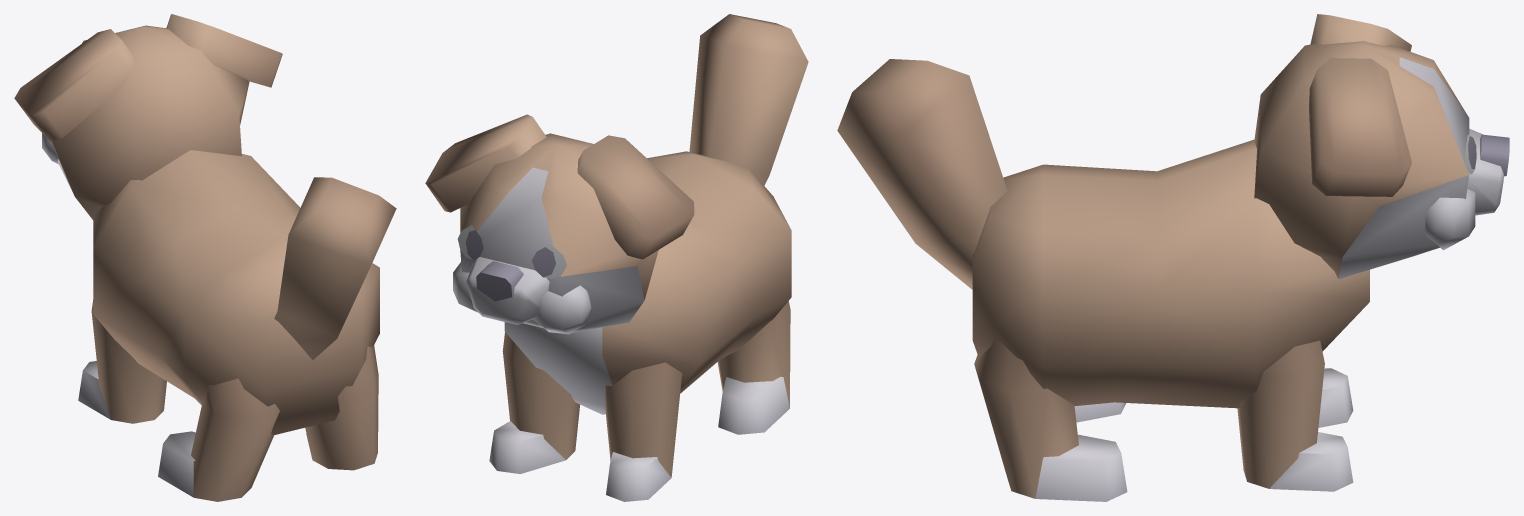
The model's file is dog-small-standing.glb.
The picture shows the model from 3 angles, left to right: view 1: azimuth 30°, elevation 25°; view 2: azimuth 150°, elevation 25°; view 3: azimuth 270°, elevation 25°; orthographic projection. The views are drawn at different scales.
Visible parts, largest first — view 1: dog-small-standing; view 2: dog-small-standing; view 3: dog-small-standing.
Boxes of the visible parts, x1,y1,x2,y2 form: dog-small-standing: [14, 14, 396, 501]; dog-small-standing: [425, 14, 808, 501]; dog-small-standing: [837, 14, 1509, 501].
Bounding box in the file's own units: 0.2377 × 0.3183 × 0.473.
